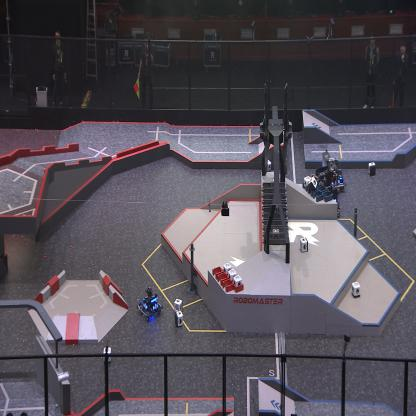car: (312, 165, 342, 220), (322, 150, 347, 191), (136, 286, 163, 320)
